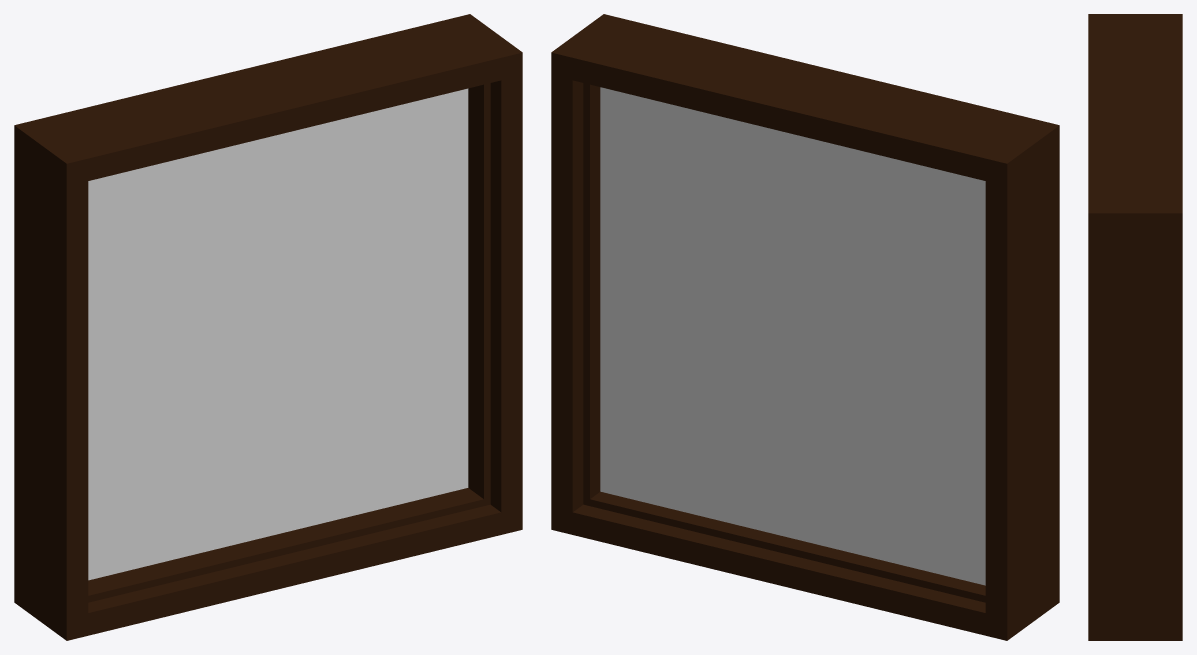
Rendered from Window.fbx.
3 renders of one model, left to right at view 1: azimuth 30°, elevation 25°; view 2: azimuth 150°, elevation 25°; view 3: azimuth 270°, elevation 25°, orthographic. The views are drawn at different scales.
Visible parts, largest first — view 1: Window.001, Window; view 2: Window.001, Window; view 3: Window.
Part boxes in pixels (<box>): Window.001: <box>88,88,468,580</box>; Window: <box>14,14,522,640</box>; Window.001: <box>600,87,985,585</box>; Window: <box>551,14,1059,640</box>; Window: <box>1088,14,1182,640</box>.
Bounding box in the file's own units: 50 × 50 × 10.
